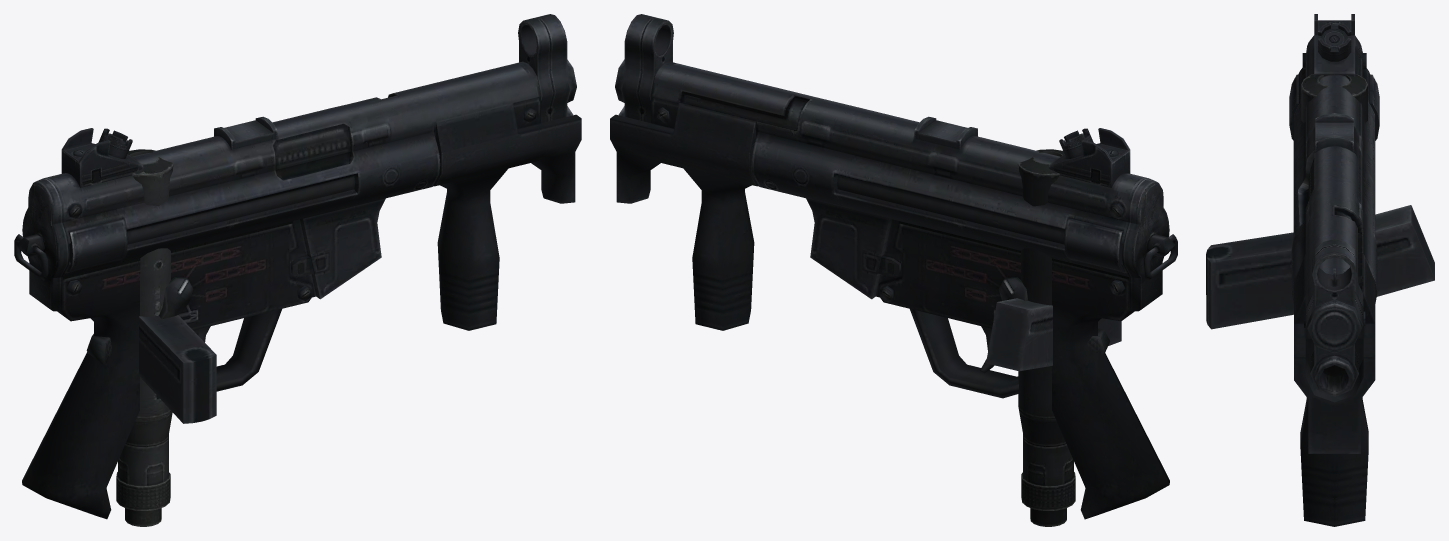
File: MP5K_Silencer.obj
The picture shows the model from 3 angles, left to right: view 1: azimuth 30°, elevation 25°; view 2: azimuth 150°, elevation 25°; view 3: azimuth 270°, elevation 25°; orthographic projection. The views are drawn at different scales.
Visible parts, largest first — view 1: Model_MP5K, Silencer, Model_Magazine; view 2: Model_MP5K, Silencer, Model_Magazine; view 3: Model_MP5K, Model_Magazine, Silencer.
Boxes of the visible parts, box(x1,y1,x2,y2) form: Model_MP5K: box(14, 14, 581, 519); Silencer: box(116, 149, 173, 526); Model_Magazine: box(139, 315, 216, 423); Model_MP5K: box(610, 14, 1177, 519); Silencer: box(1018, 149, 1075, 526); Model_Magazine: box(986, 298, 1121, 371); Model_MP5K: box(1289, 14, 1379, 526); Model_Magazine: box(1206, 205, 1434, 329); Silencer: box(1301, 74, 1367, 397).
Size of the model in its own units: 0.3568 by 0.2523 by 0.1189.
2 materials, 2 textured.
